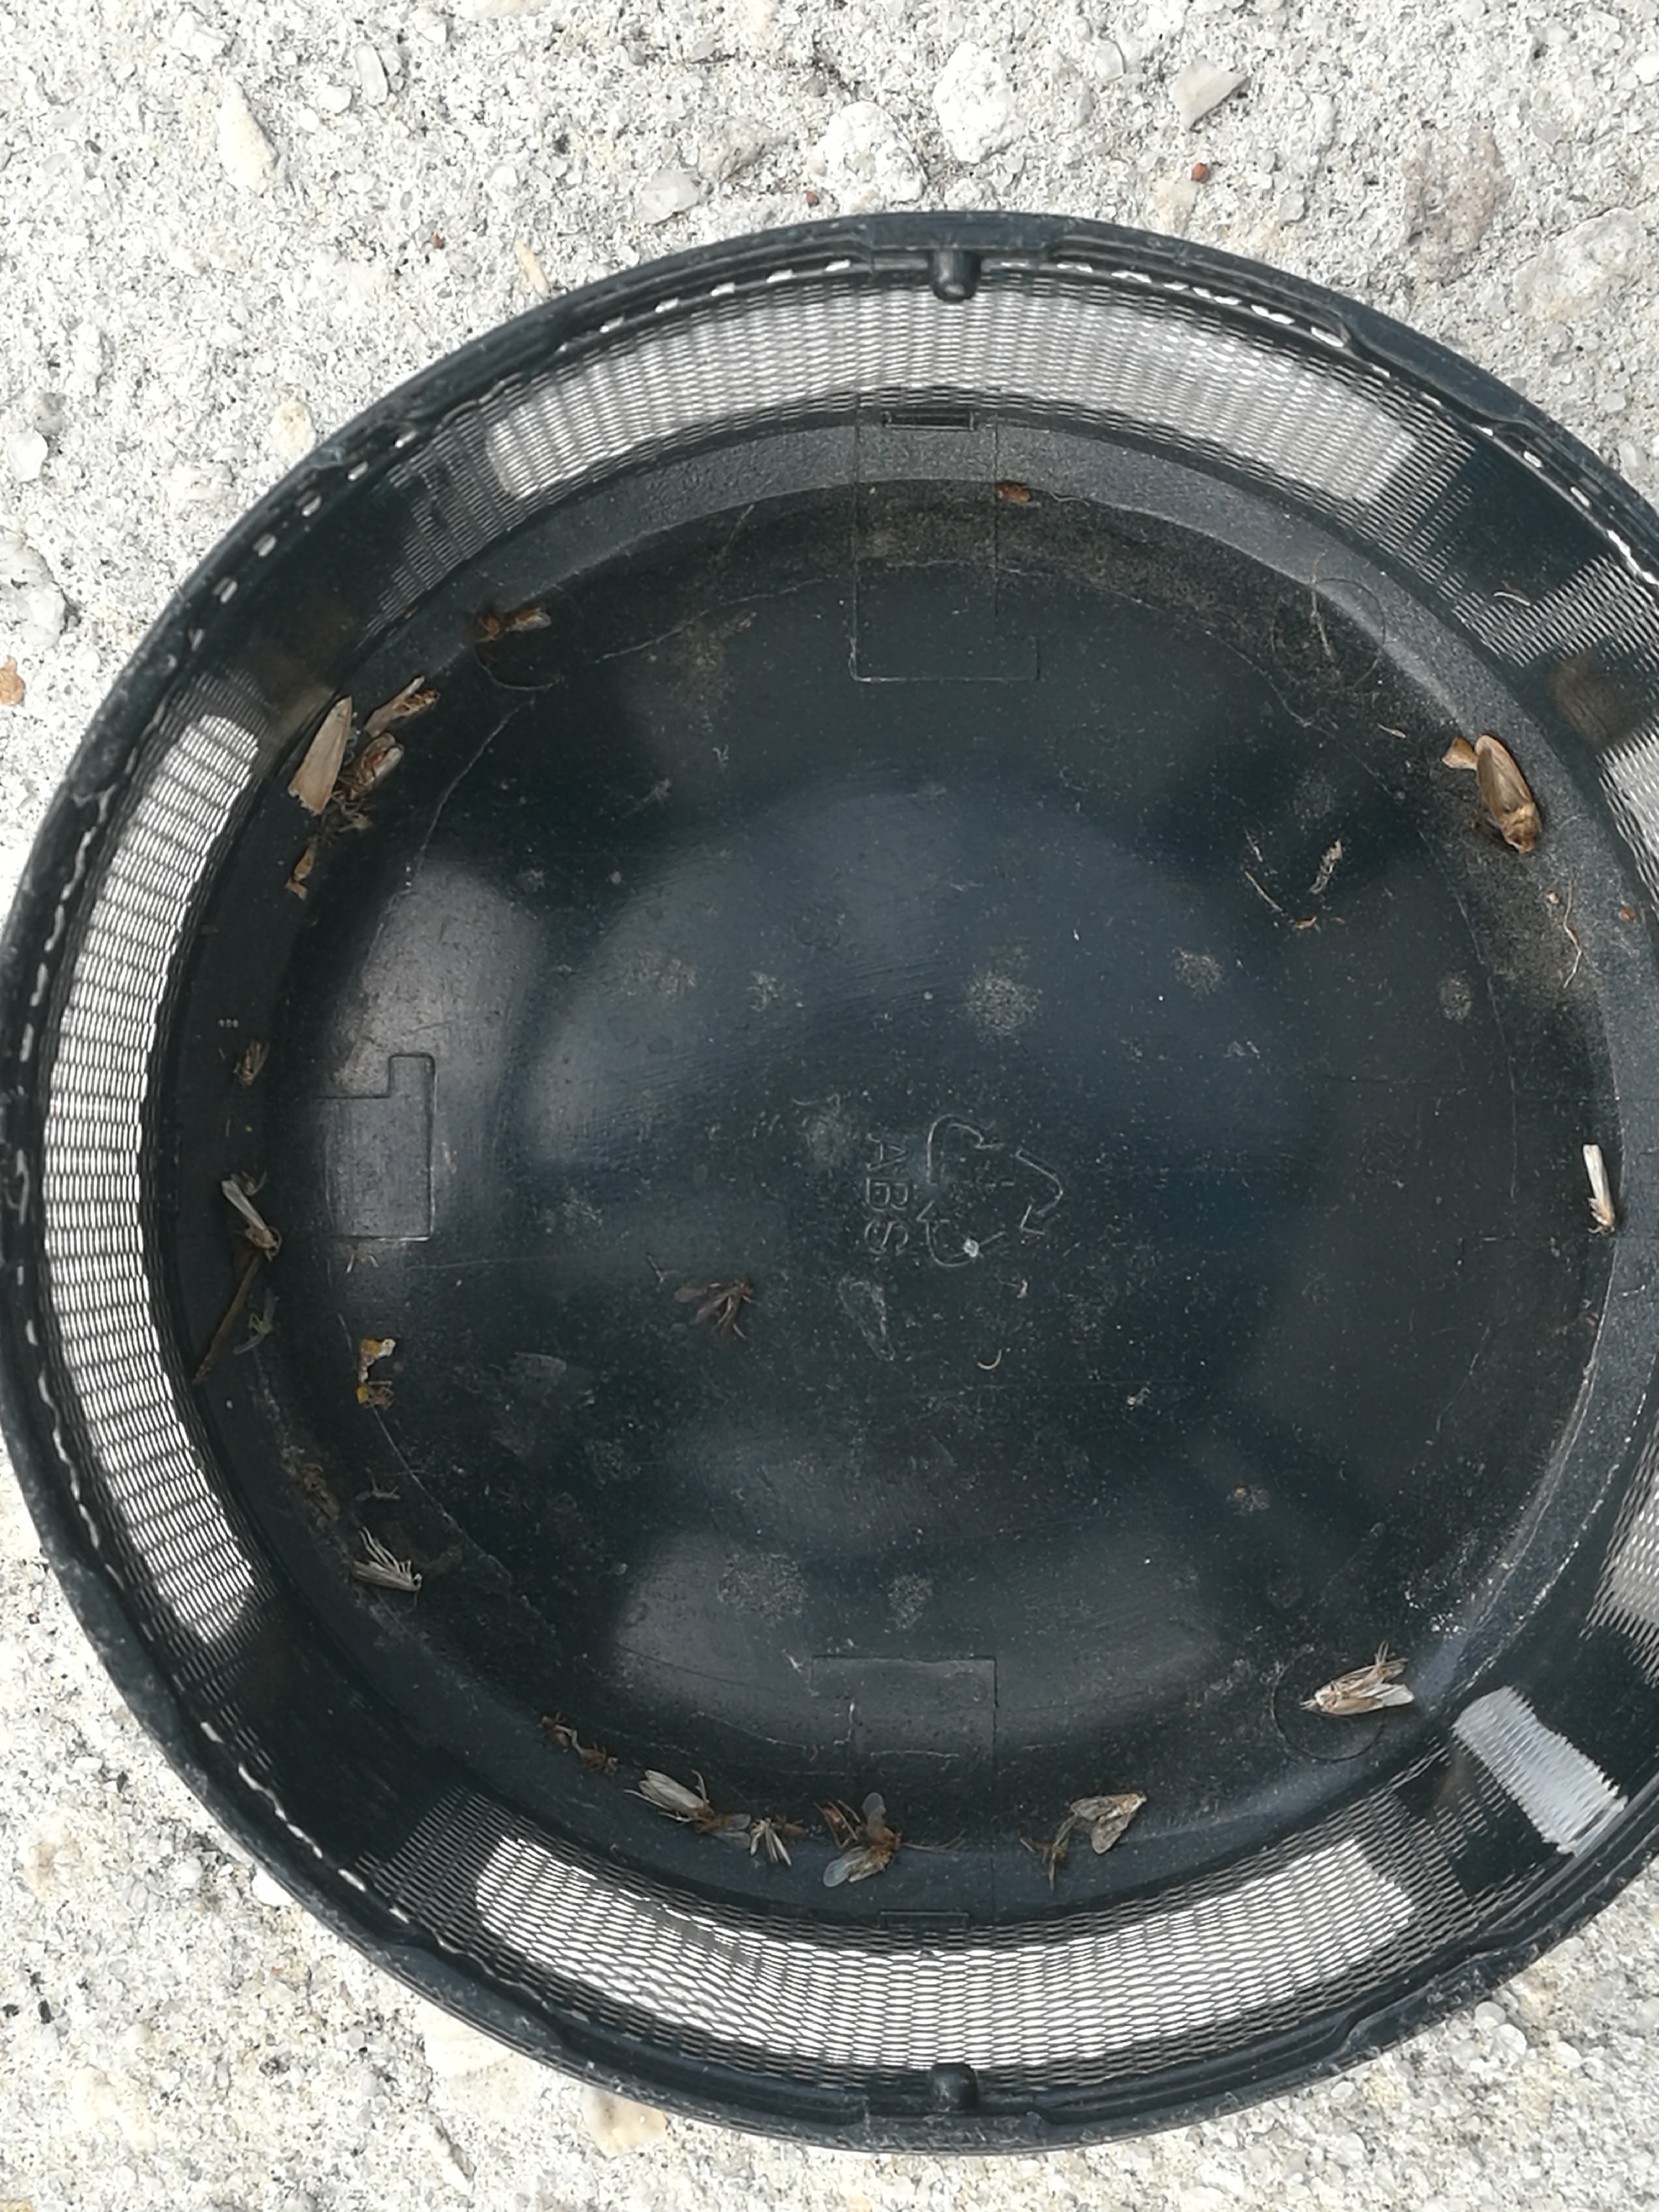mosquito: (223, 1179, 281, 1258), (354, 1533, 422, 1594), (638, 1768, 714, 1822), (349, 733, 399, 799), (1588, 1146, 1615, 1233)
moth: (1476, 733, 1542, 852), (1309, 1660, 1410, 1714), (1070, 1792, 1141, 1857)
